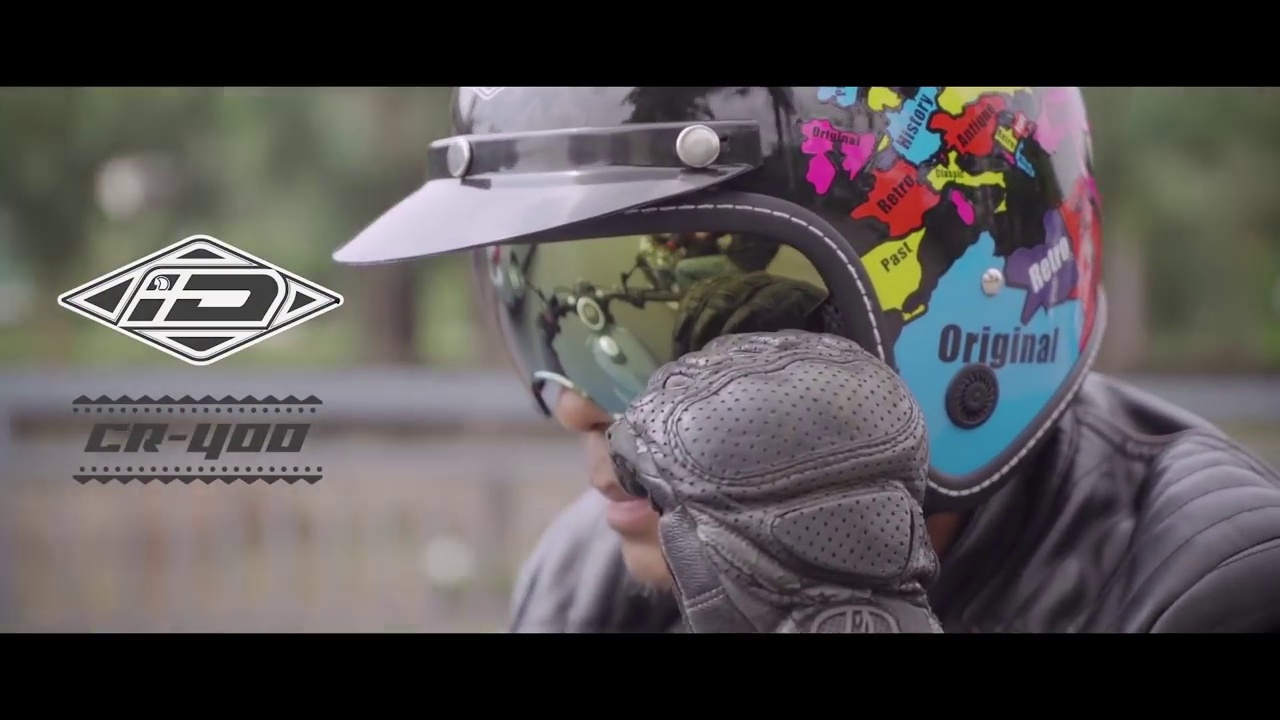helmet: (402, 81, 1122, 597)
